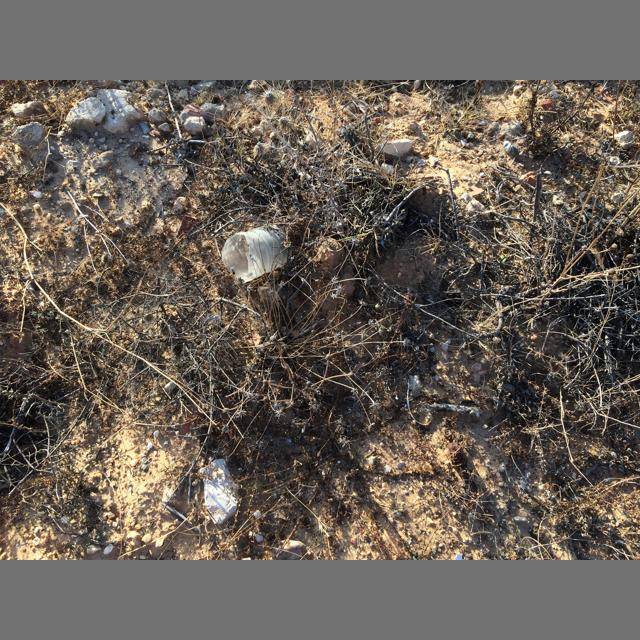litter: (221, 224, 291, 283)
